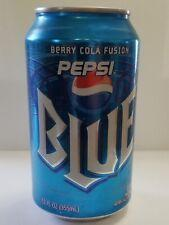metal: (26, 9, 139, 220)
